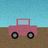vehicle: (9, 19, 37, 39)
